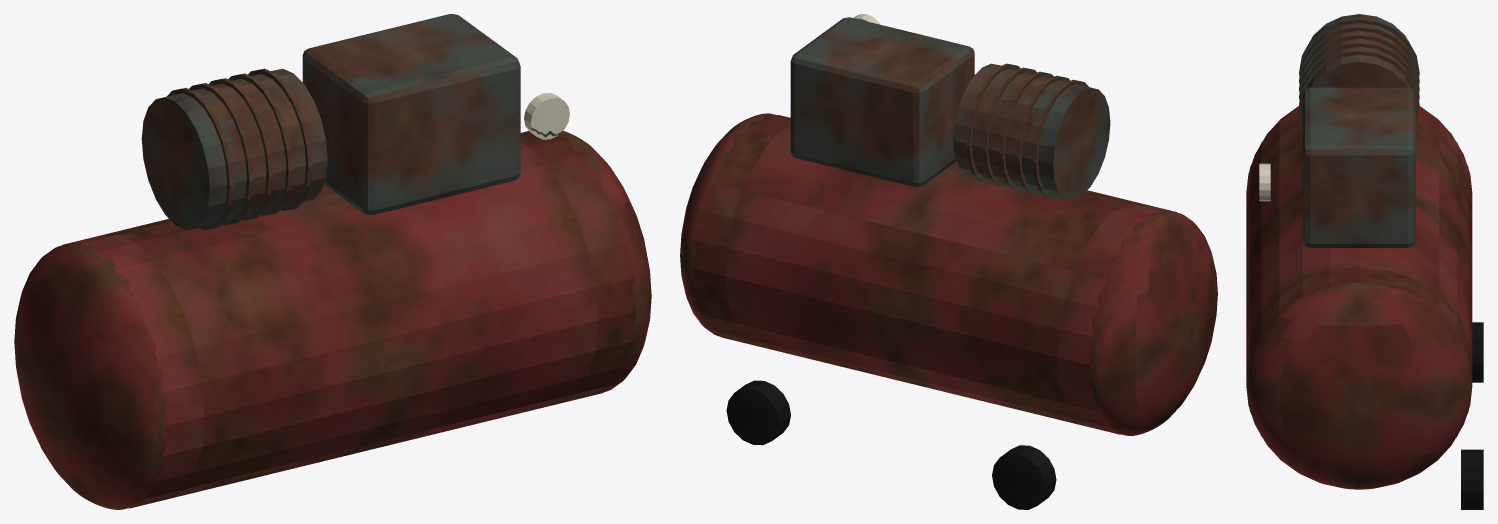
Rendered from HM08_AirCompressor.glb.
3 views of the same model, side by side, from view 1: azimuth 30°, elevation 25°; view 2: azimuth 150°, elevation 25°; view 3: azimuth 270°, elevation 25° (orthographic). The views are drawn at different scales.
Parts seen in each view (by area): view 1: HM08_AirCompressor; view 2: HM08_AirCompressor; view 3: HM08_AirCompressor.
Boxes of the visible parts, box(x1,y1,x2,y2) form: HM08_AirCompressor: box(14, 14, 651, 509); HM08_AirCompressor: box(680, 14, 1217, 509); HM08_AirCompressor: box(1246, 14, 1483, 509).
Size of the model in its own units: 1.5 by 1.13 by 0.6563.
Materials: 4 (4 with a texture image).
